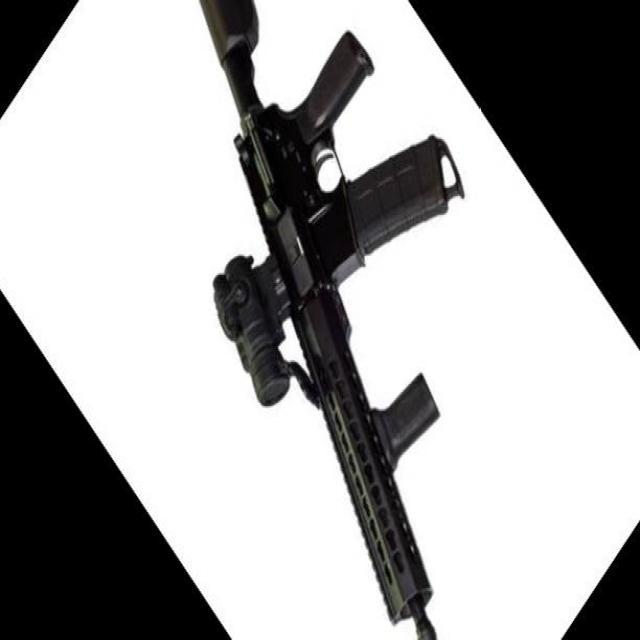weapon: (198, 1, 466, 640)
